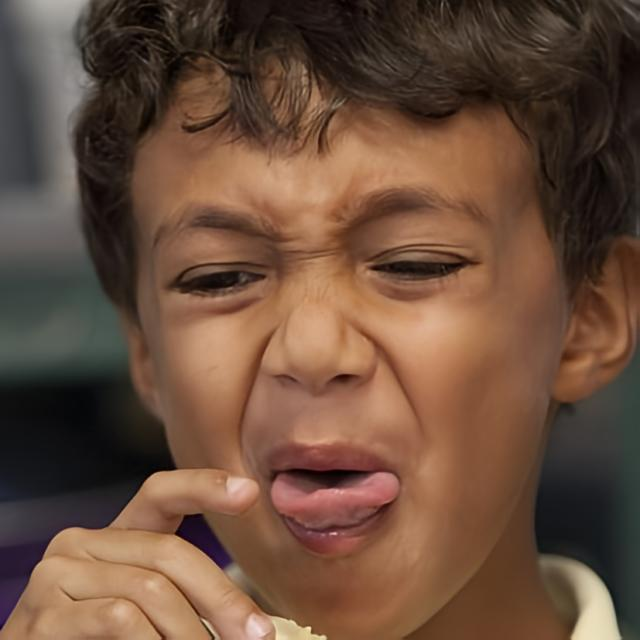disgust: (133, 48, 571, 640)
